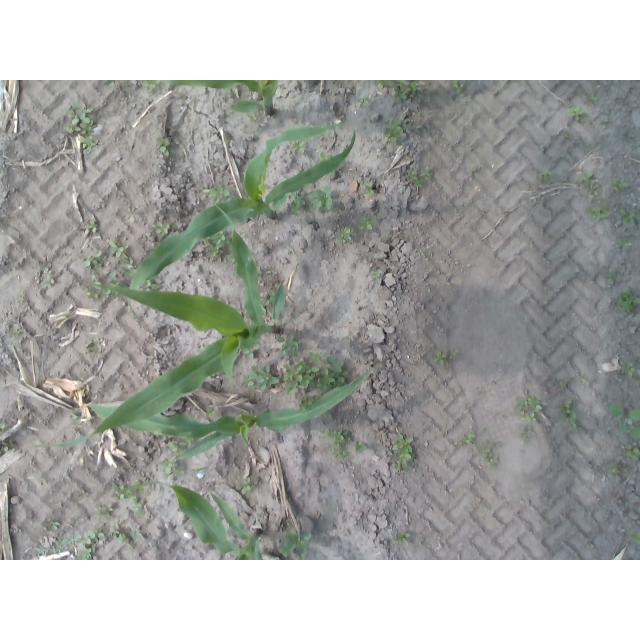Maize: (28, 203, 288, 448), (128, 121, 356, 292), (89, 368, 372, 463), (135, 481, 265, 559), (165, 80, 281, 117)
Weeds: (243, 333, 350, 391), (23, 520, 77, 560), (64, 101, 101, 157), (319, 429, 369, 468), (113, 480, 149, 519), (390, 423, 415, 473), (609, 404, 640, 440), (514, 390, 546, 423), (278, 530, 315, 558), (75, 528, 106, 560), (378, 80, 419, 102), (557, 395, 578, 429), (383, 115, 405, 146), (309, 185, 334, 212), (404, 167, 433, 189), (112, 524, 137, 549), (618, 288, 640, 315), (206, 234, 230, 258), (203, 182, 231, 202), (35, 267, 58, 290), (80, 248, 104, 269), (481, 442, 499, 469), (160, 456, 183, 477), (108, 243, 132, 262), (84, 280, 105, 301), (586, 204, 614, 219), (455, 429, 477, 448), (289, 193, 307, 216), (95, 502, 114, 522), (618, 208, 640, 225), (79, 222, 102, 237), (622, 444, 640, 463), (568, 104, 585, 123), (358, 214, 378, 230), (166, 440, 188, 454), (139, 80, 162, 93), (300, 392, 318, 408), (520, 426, 536, 444), (156, 137, 171, 156), (620, 362, 636, 379), (612, 178, 628, 195), (336, 227, 356, 240), (432, 350, 448, 366), (290, 141, 307, 156), (85, 339, 99, 357), (241, 478, 254, 497), (361, 180, 375, 197), (155, 221, 172, 235), (394, 531, 411, 545), (578, 173, 594, 187), (551, 377, 567, 391), (606, 462, 623, 475), (146, 279, 162, 292), (538, 170, 553, 183), (451, 82, 465, 95), (598, 115, 610, 130), (357, 96, 370, 109), (122, 260, 135, 273), (494, 410, 507, 422), (618, 239, 632, 250), (606, 270, 615, 287), (265, 290, 274, 307), (12, 325, 24, 337), (629, 531, 640, 543), (581, 374, 591, 387), (247, 111, 257, 123), (371, 269, 382, 279), (450, 346, 459, 358), (103, 81, 118, 88), (19, 290, 27, 303), (563, 130, 573, 140), (205, 409, 215, 419), (478, 388, 487, 399), (590, 91, 598, 101), (482, 425, 489, 436), (324, 412, 332, 421), (587, 542, 596, 550), (321, 150, 328, 160), (1, 423, 8, 430), (597, 197, 604, 203), (2, 447, 8, 454)
